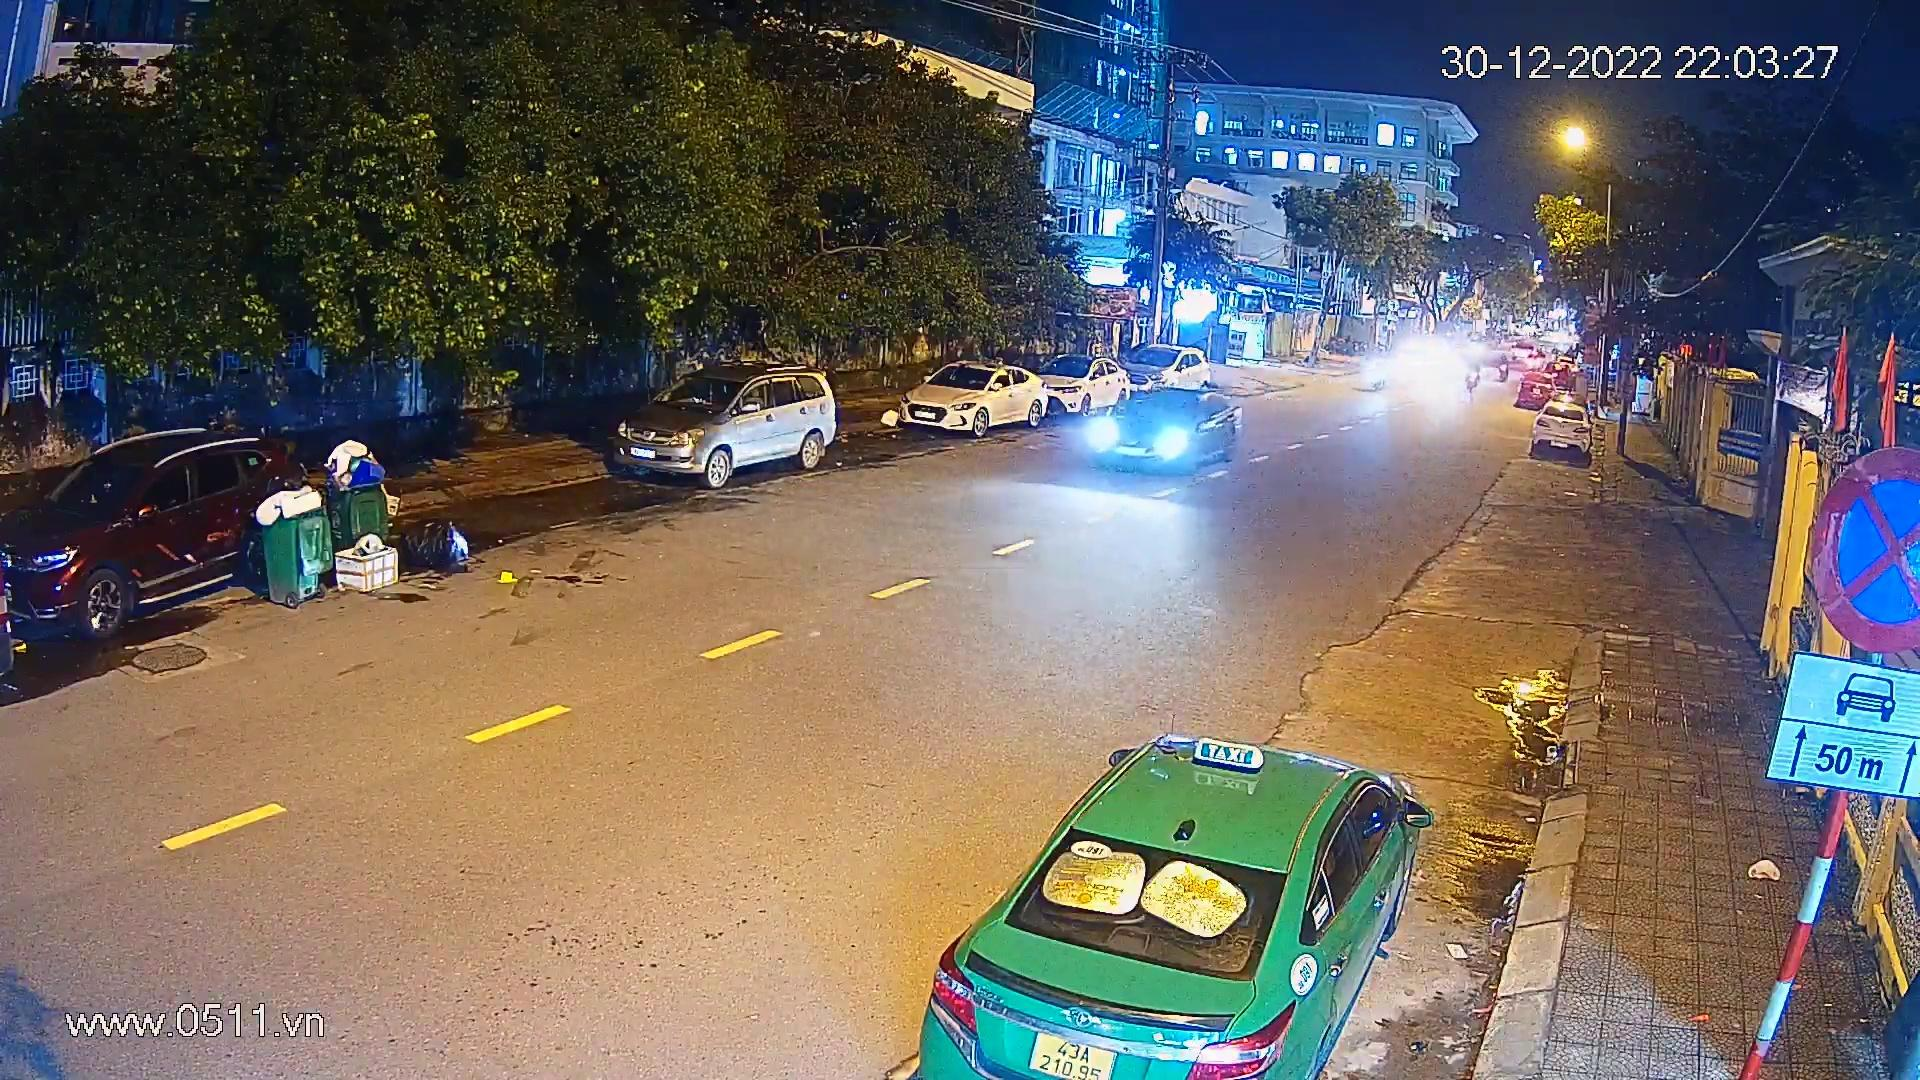car: (926, 732, 1432, 1080), (0, 414, 328, 657), (611, 352, 841, 491), (1083, 381, 1242, 479), (893, 359, 1050, 436), (1040, 348, 1134, 415), (1120, 343, 1215, 397), (1527, 398, 1593, 460), (1515, 371, 1556, 409)
motorcycle: (1453, 349, 1489, 402)
